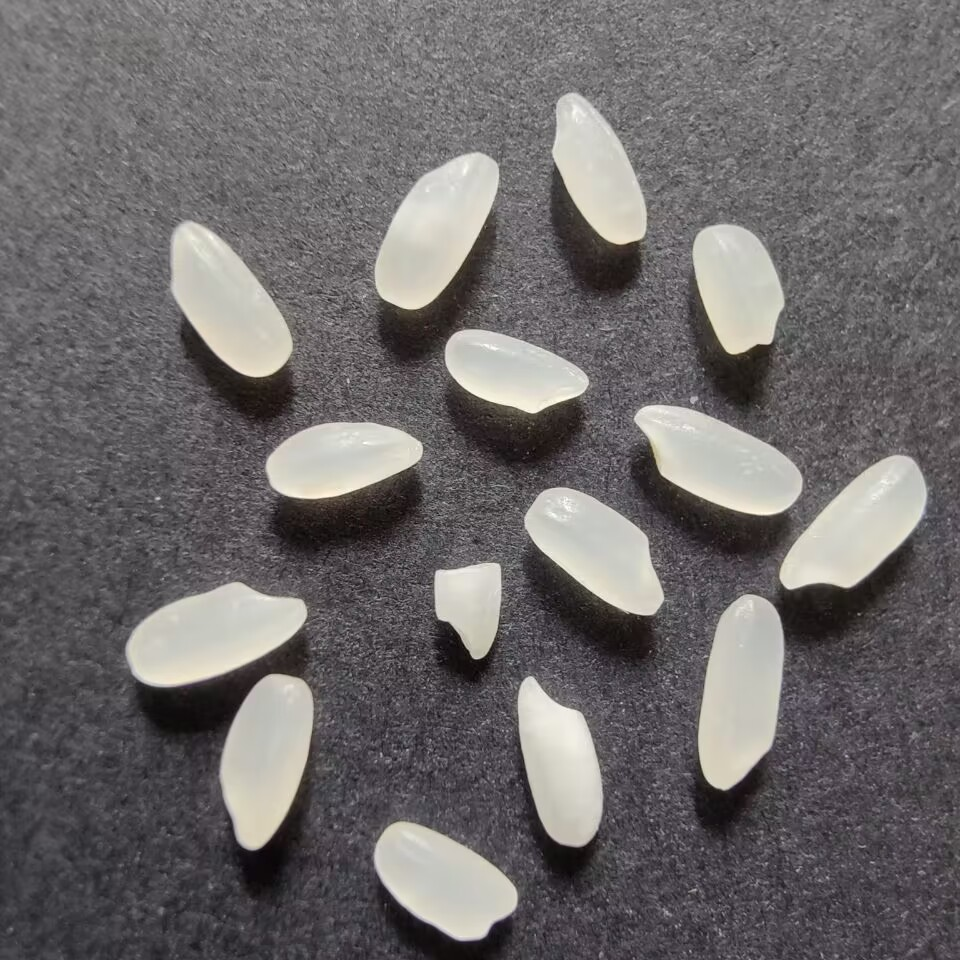broken: (422, 554, 507, 663)
rice: (777, 449, 932, 595), (162, 216, 299, 381), (119, 576, 316, 689), (368, 148, 503, 312), (629, 401, 810, 518), (516, 484, 668, 619), (693, 590, 792, 797), (366, 819, 521, 945), (218, 668, 315, 854), (512, 674, 613, 852), (545, 91, 651, 248), (260, 416, 430, 506), (440, 325, 595, 417), (691, 223, 787, 355)
